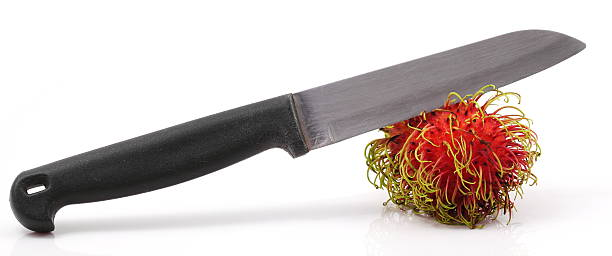knife: (7, 27, 590, 236)
